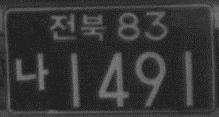1: (68, 50, 82, 109), (182, 48, 195, 109)
3: (144, 10, 168, 42)
4: (97, 50, 130, 109)
8: (116, 11, 141, 42)
9: (135, 50, 167, 108)
나: (13, 51, 49, 91)
전북_O: (47, 13, 106, 42)
